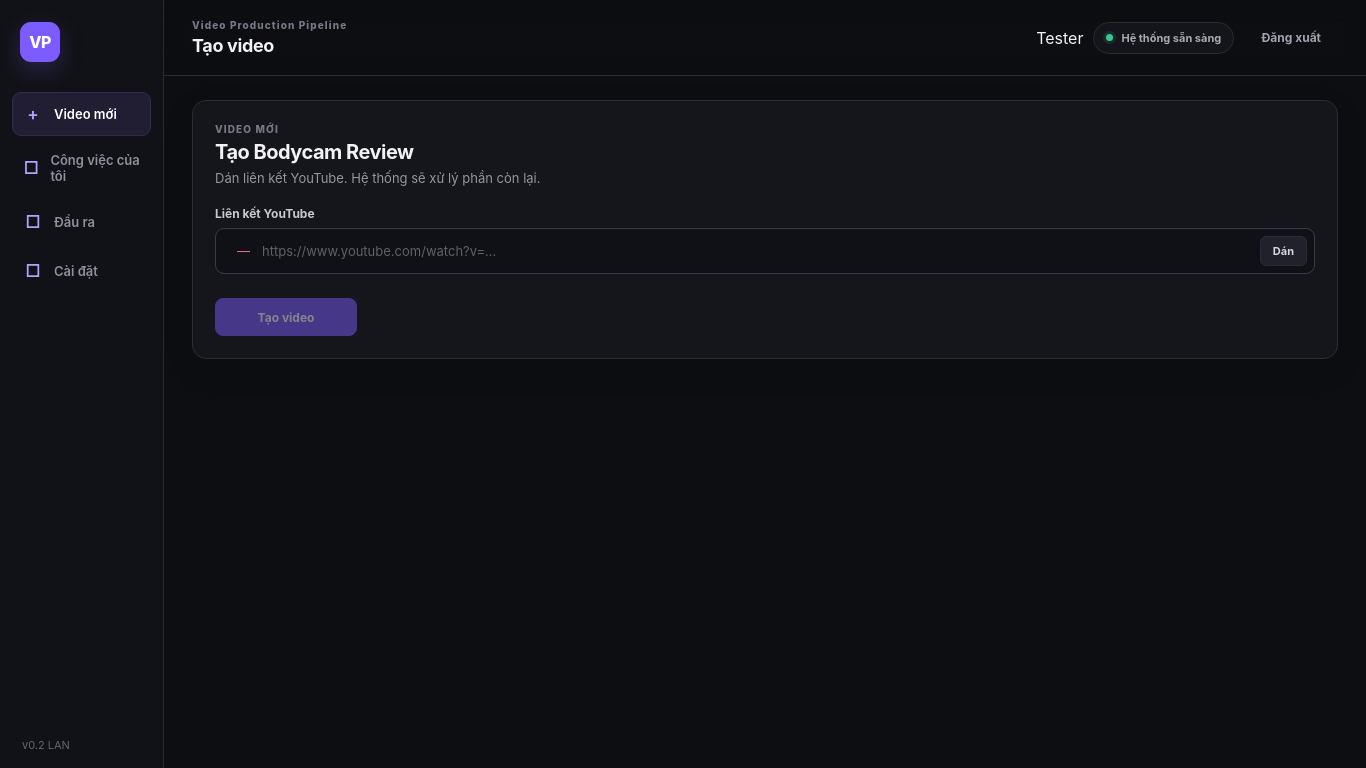
Test: App › changes password from settings
Click the button "□ Cài đặt" at x=82, y=271, box [12,249,151,293]
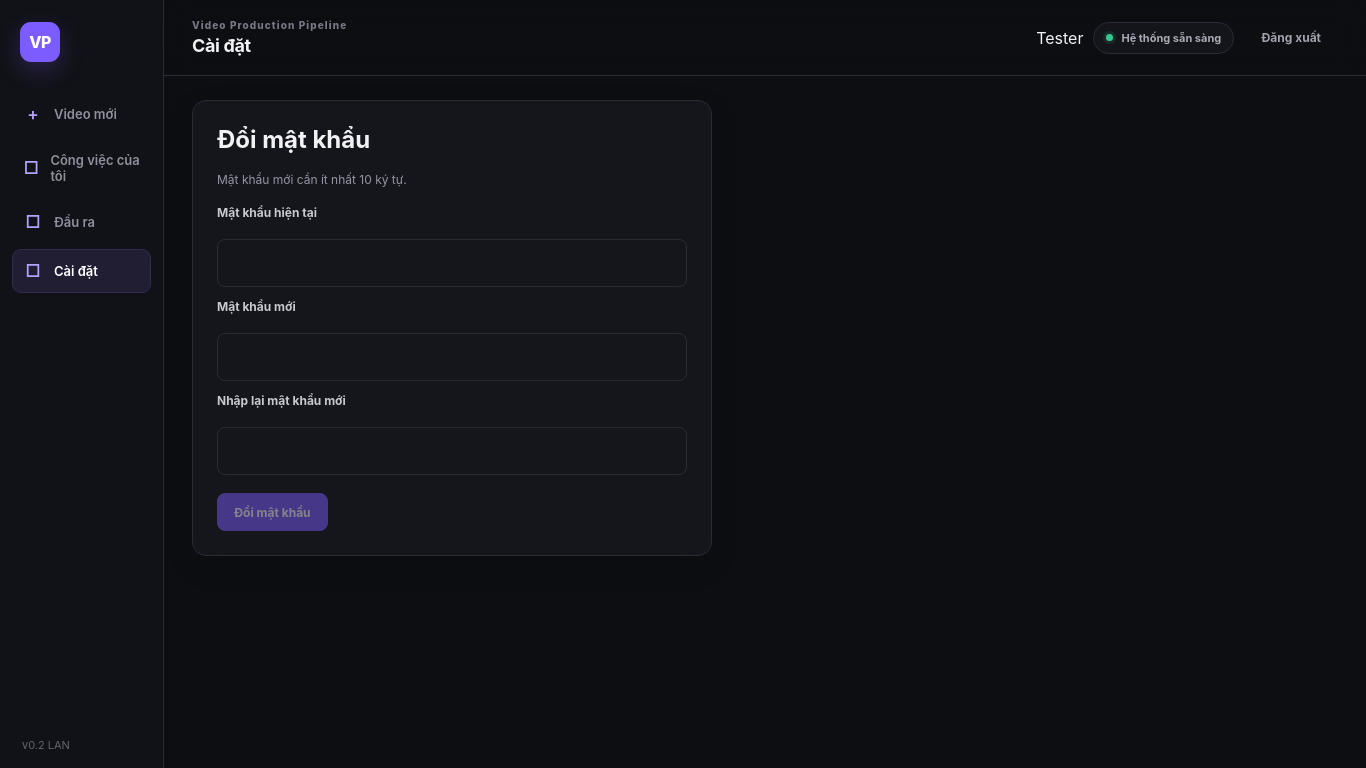
Type "Matkhau-cu@16" into the password field labelled "Mật khẩu hiện tại" at x=452, y=263, box [217,239,687,287]
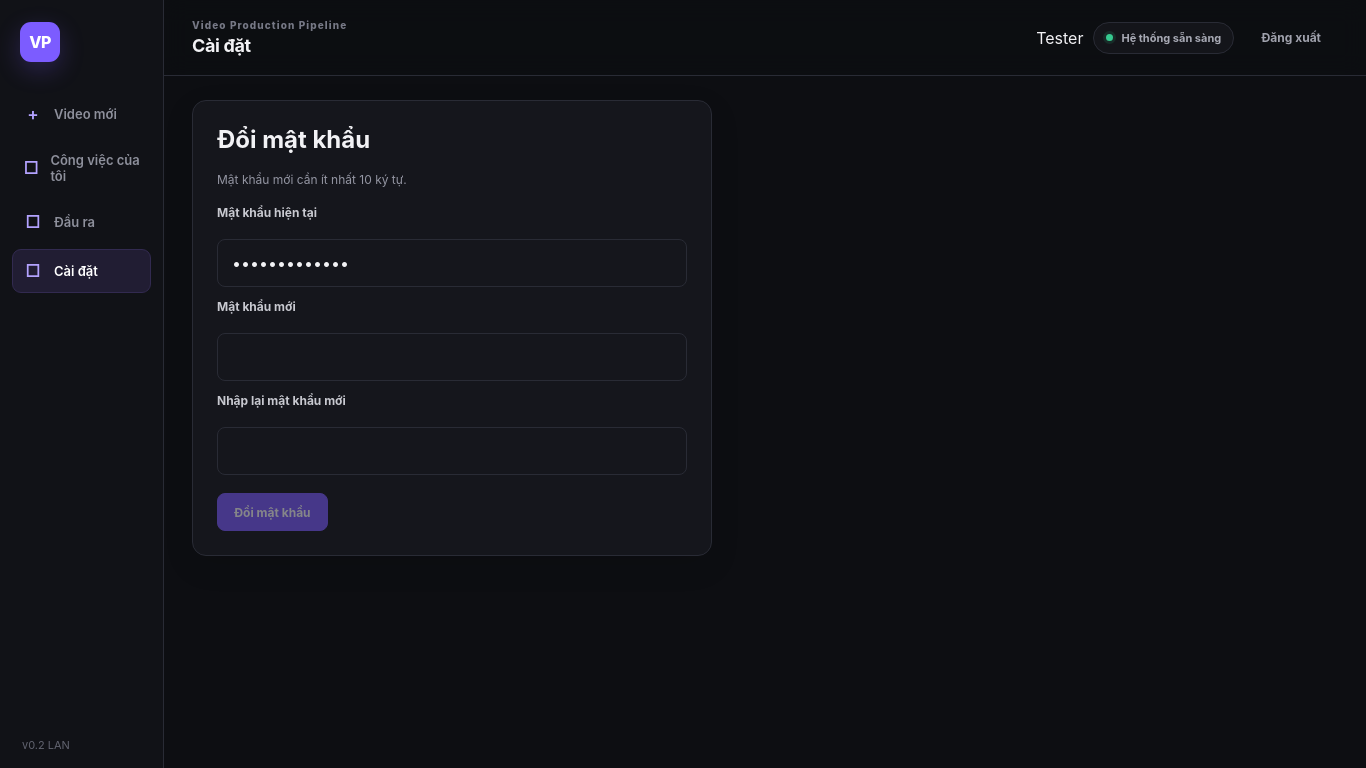
Type "Matkhau-moi@16" into the password field labelled "Mật khẩu mới" at x=452, y=357, box [217,333,687,381]
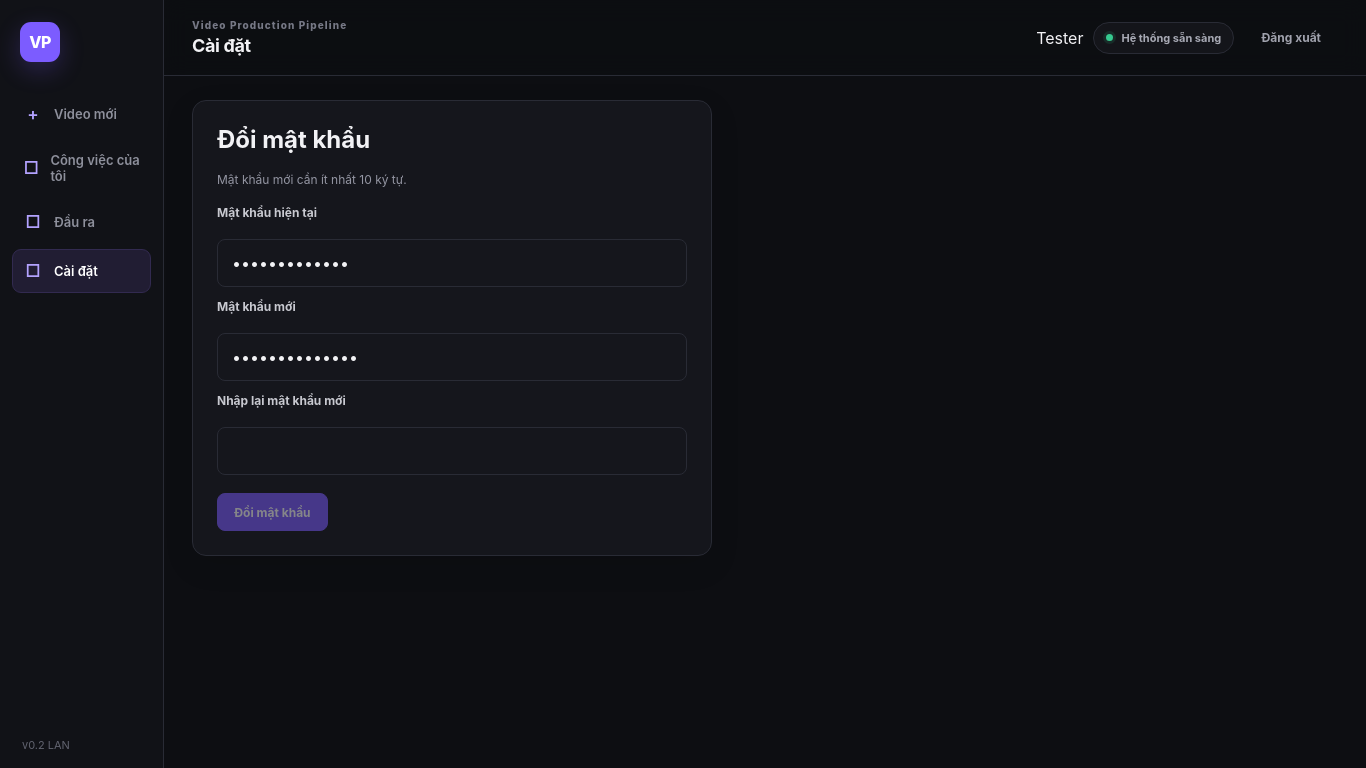
Type "Matkhau-moi@16" into the password field labelled "Nhập lại mật khẩu mới" at x=452, y=451, box [217,427,687,475]
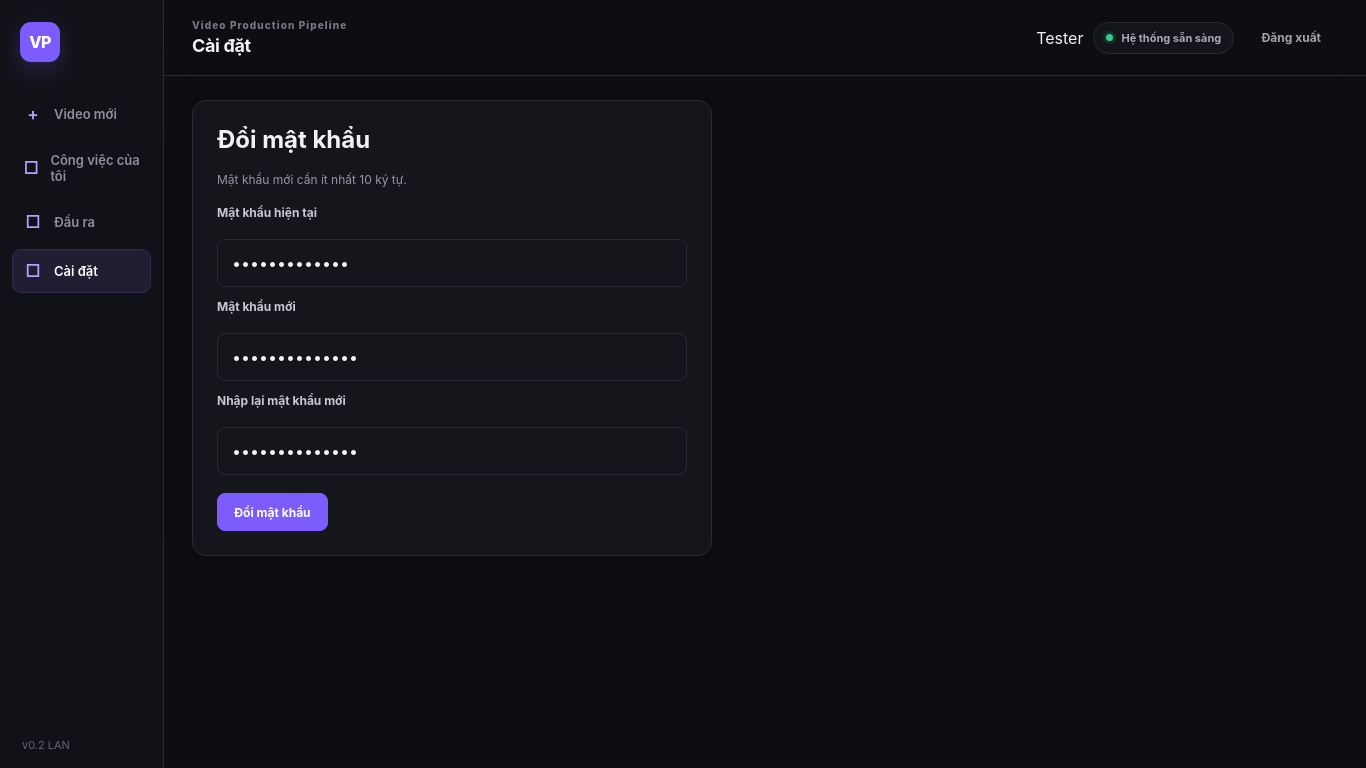
Click the button "Đổi mật khẩu" at x=272, y=512, box [217,493,328,531]
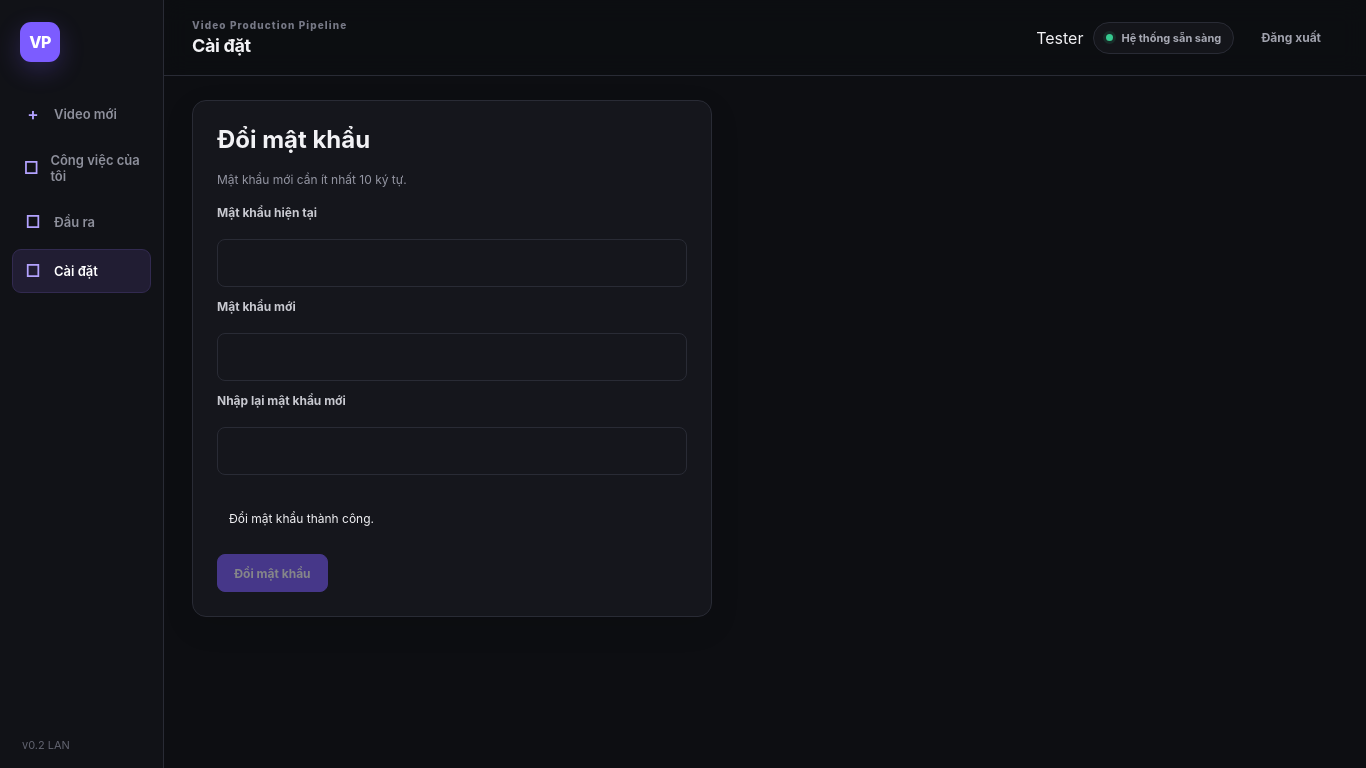
Expected: the text "Đổi mật khẩu thành công." is shown, [229,511,374,526]
